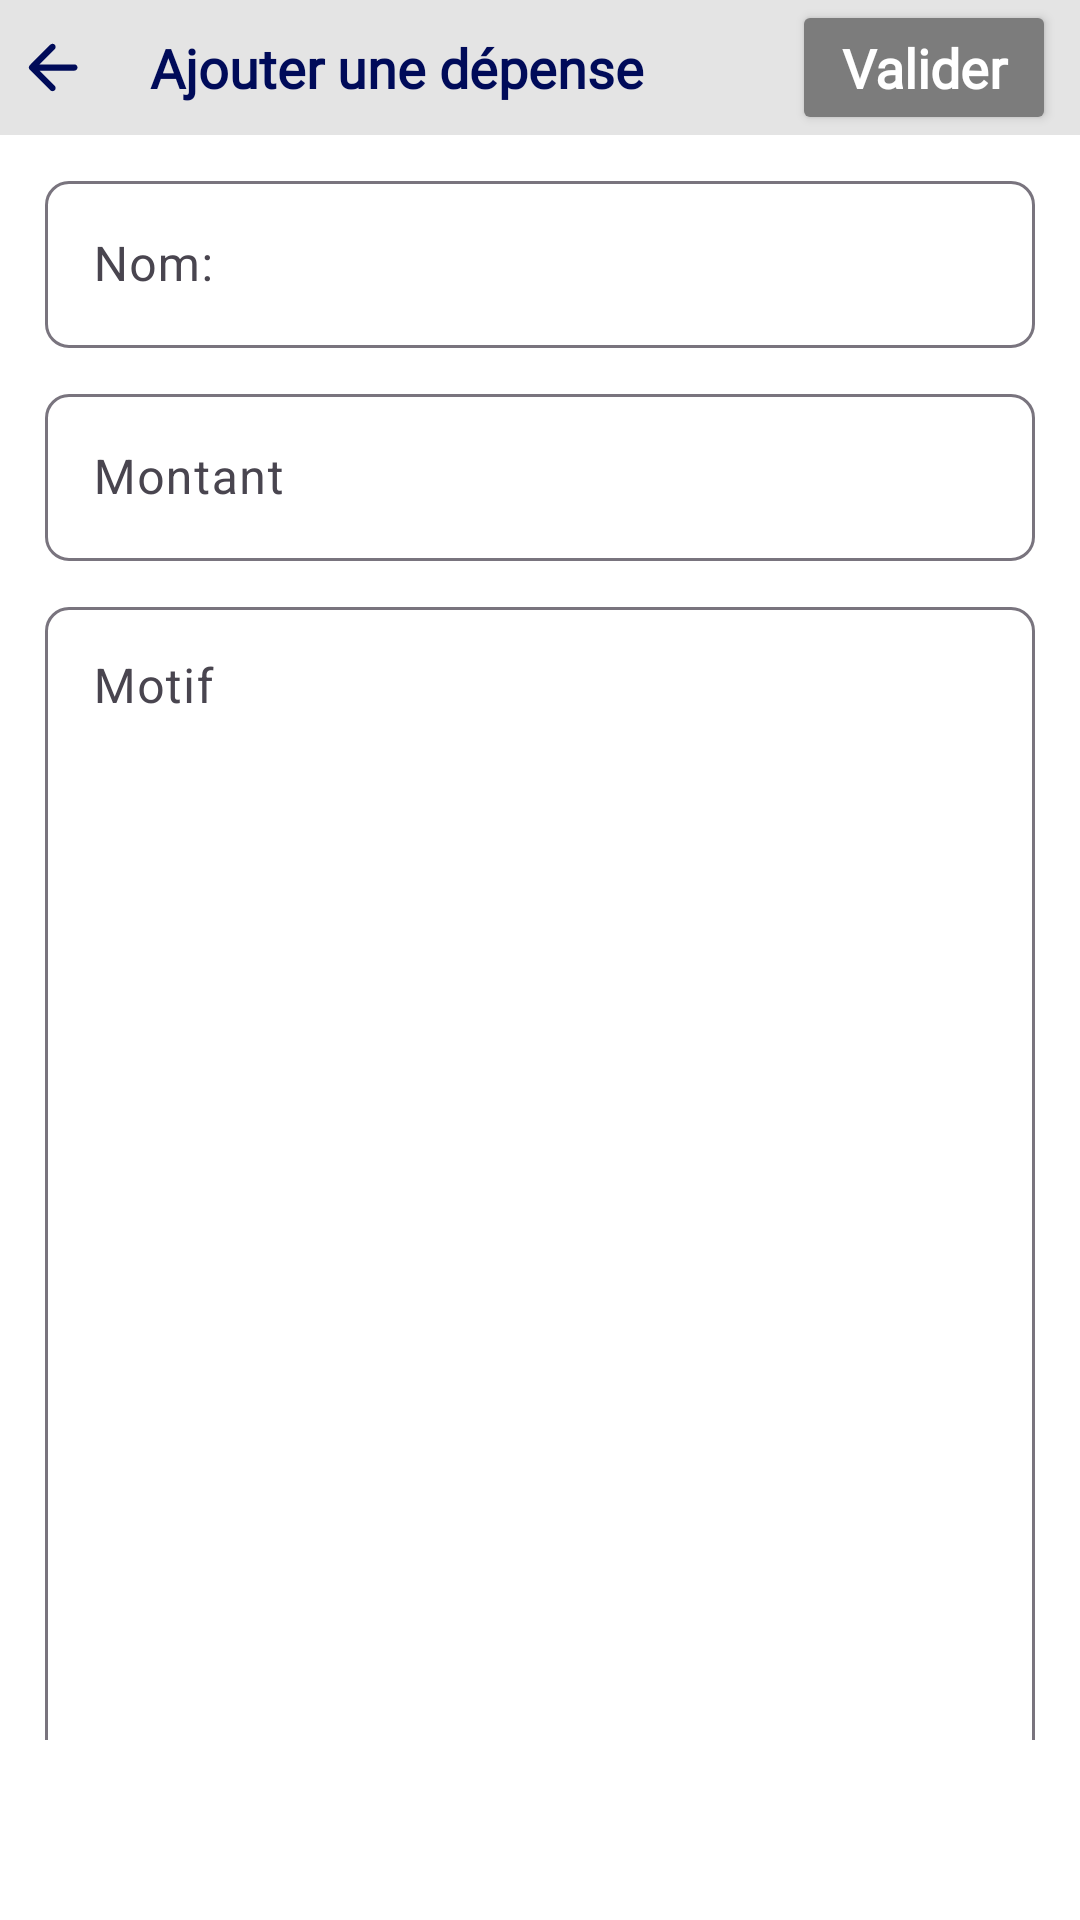

Named icons in this screenshot (1080w x 1920h) and their centers, point (x, y):
back: point (53, 67)
